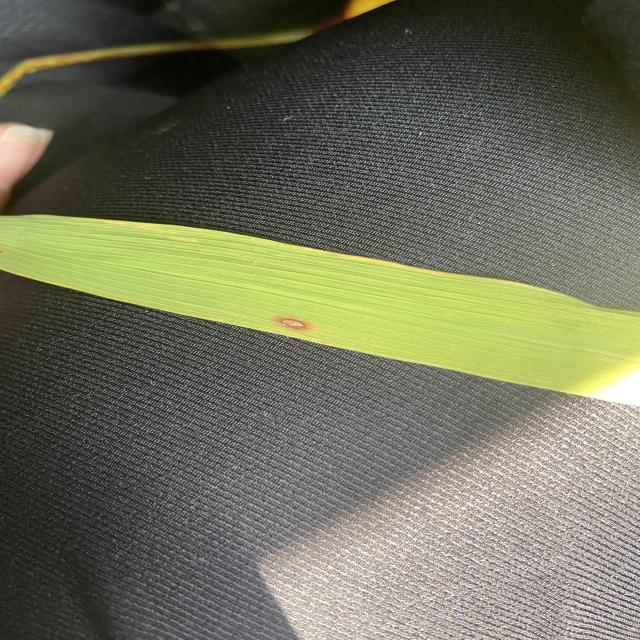Dom nau: (274, 316, 312, 331)
